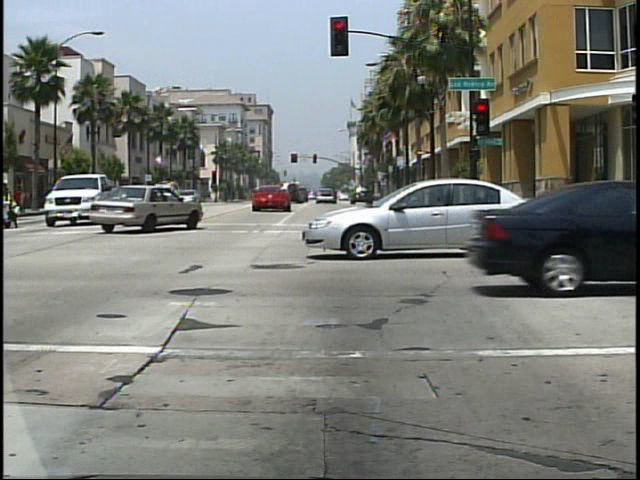person: (1, 176, 24, 230)
